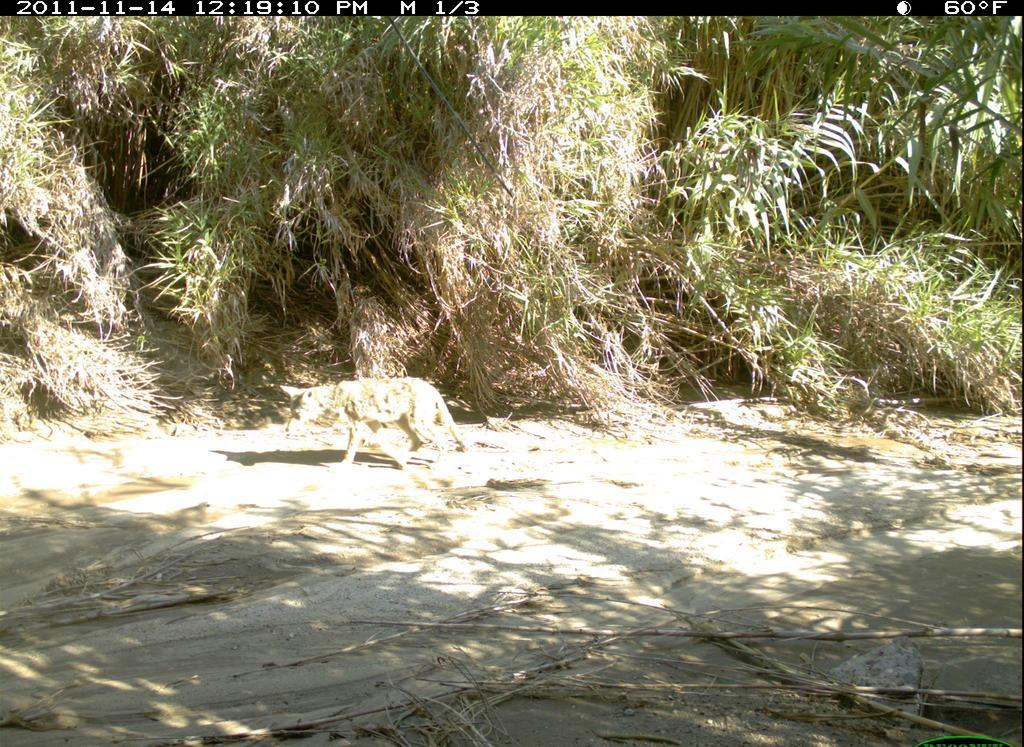coyote: (276, 374, 473, 477)
